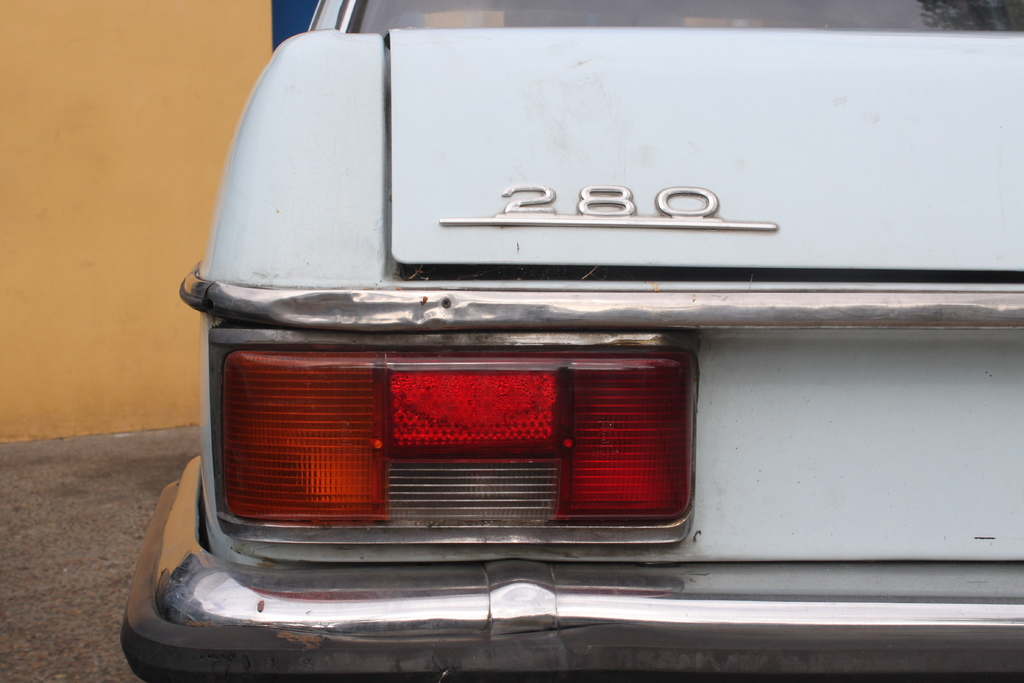Car: (117, 0, 1023, 682)
